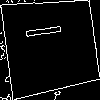I: (25, 20, 71, 40)
